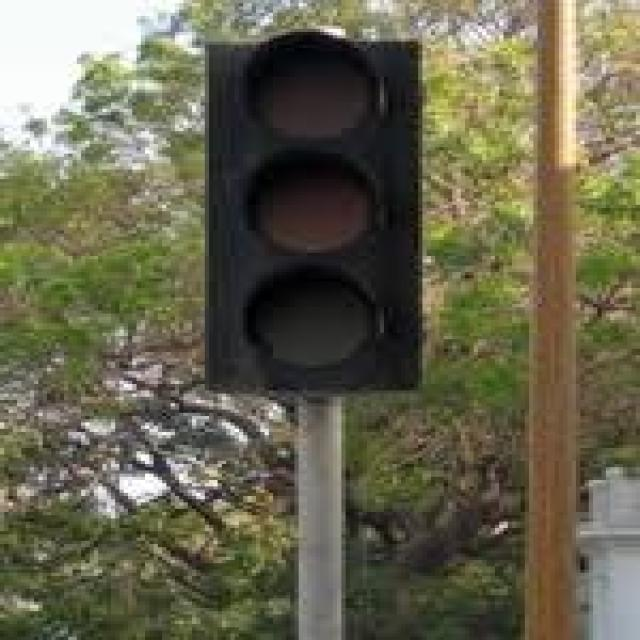feu: (209, 32, 421, 390)
